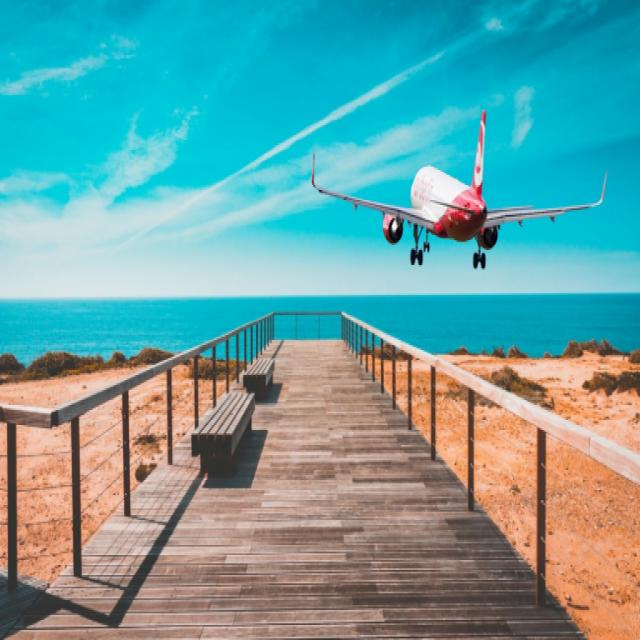plane: (308, 101, 616, 269)
